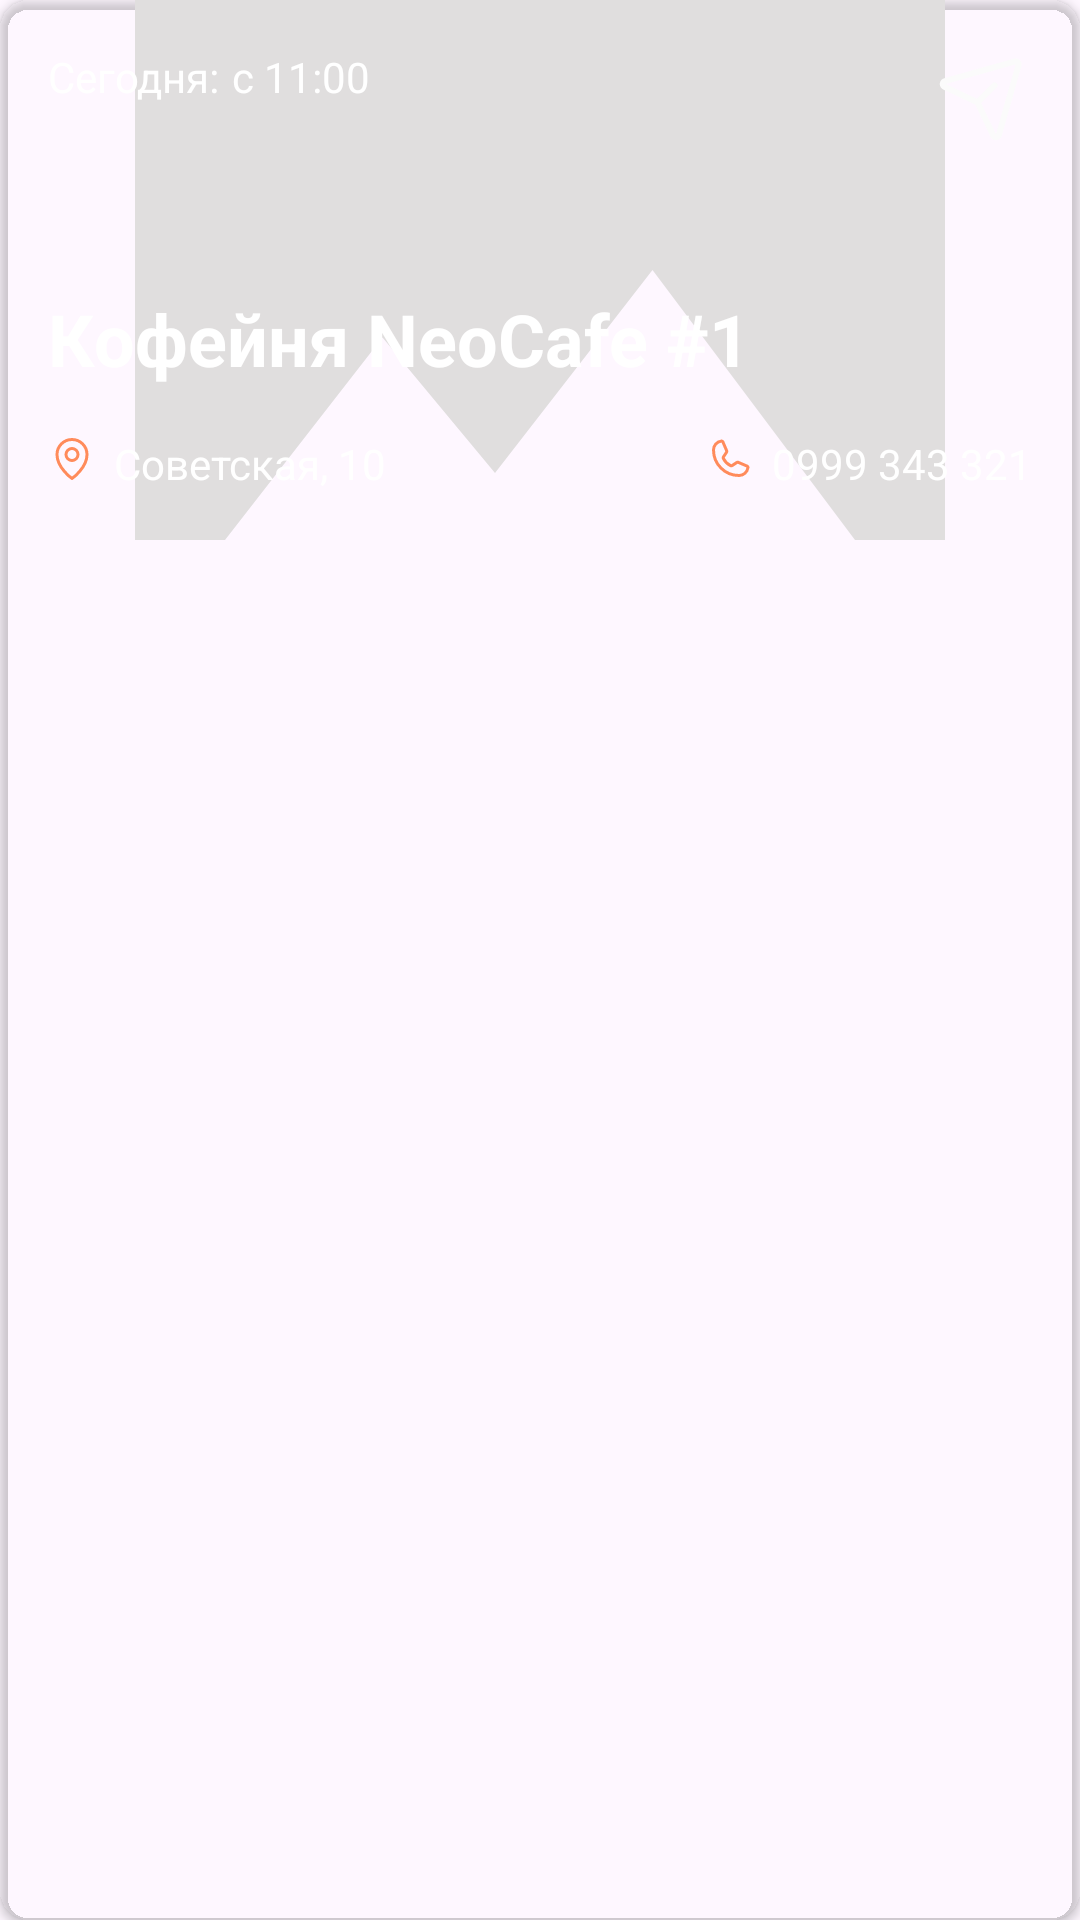

Named icons in this screenshot (1080 x 1920) and their bounding boxes, (x1, y1, x2, y2):
filials map pin: (55, 438, 89, 480)
filials phone: (712, 439, 750, 477)
